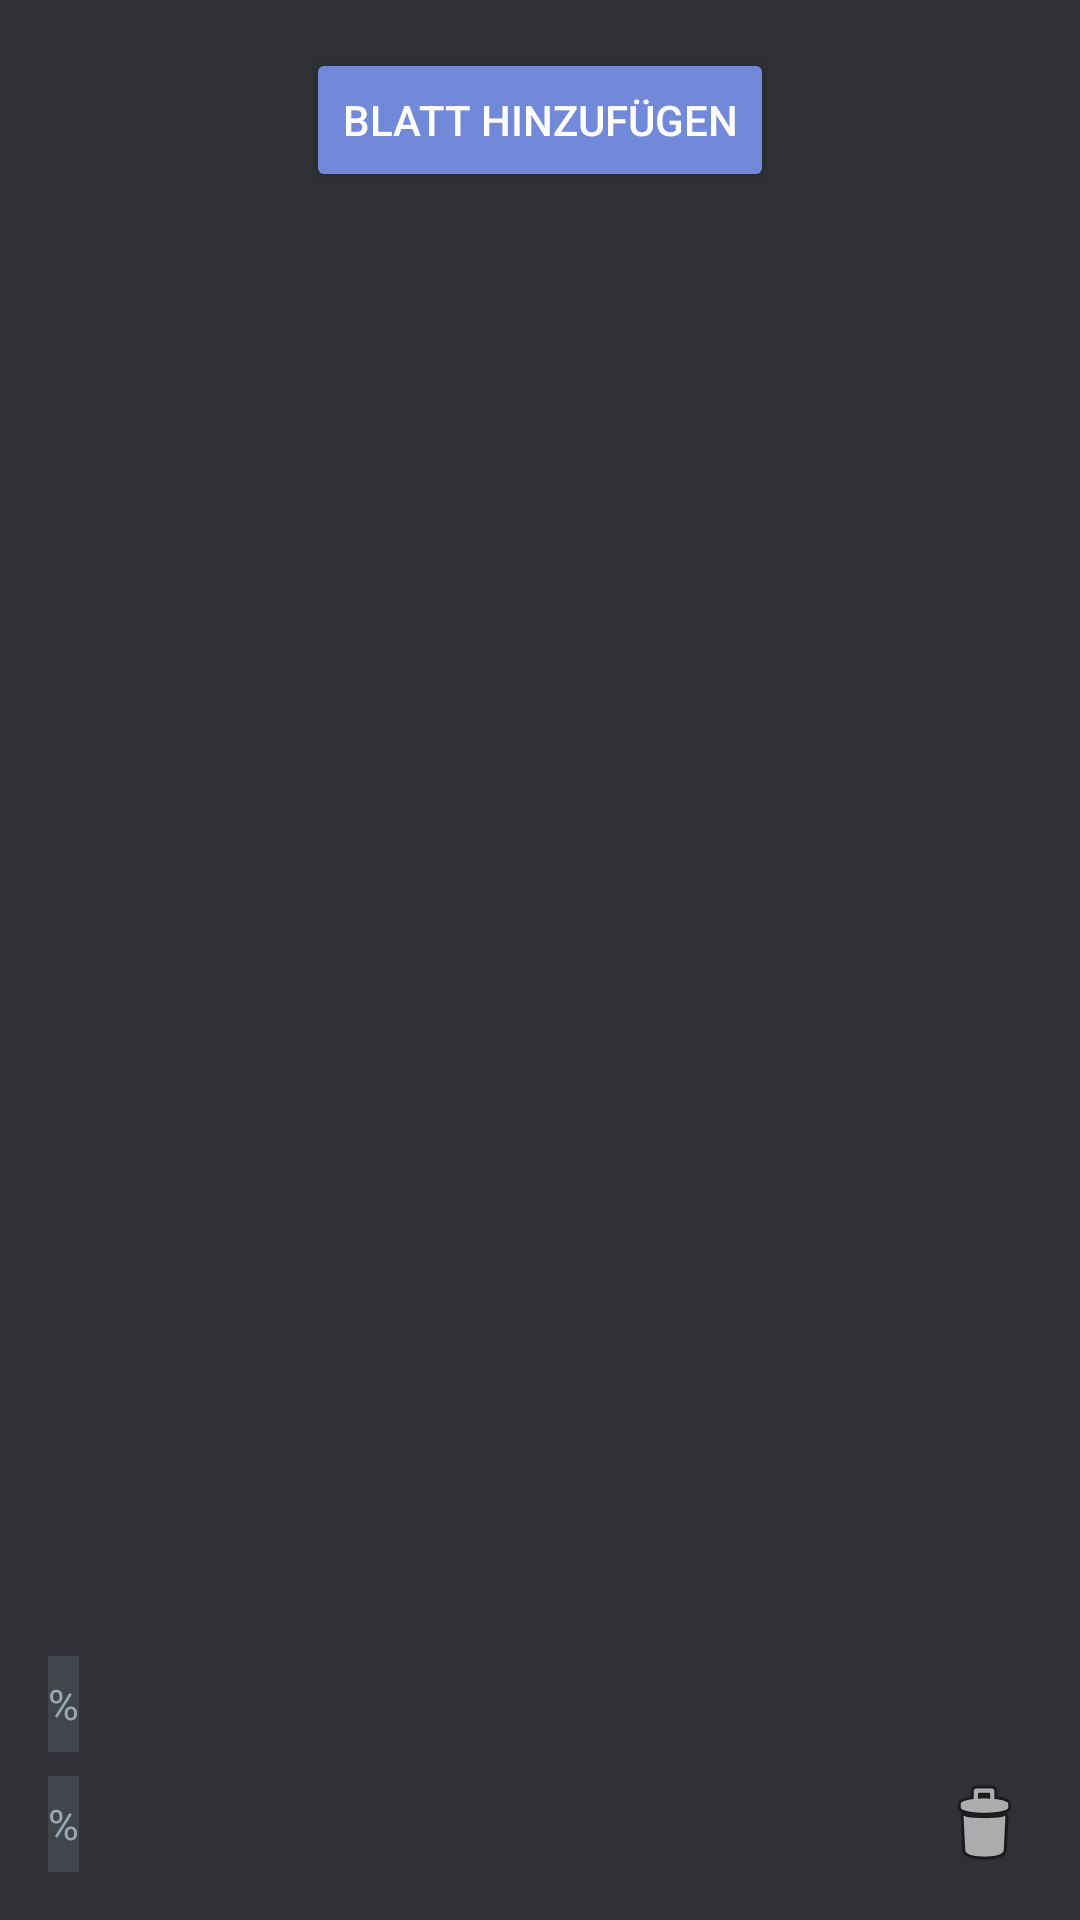

Screen size 1080 x 1920. Icon name, then its center in pixels as [x,y]:
delete: [984,1822]
